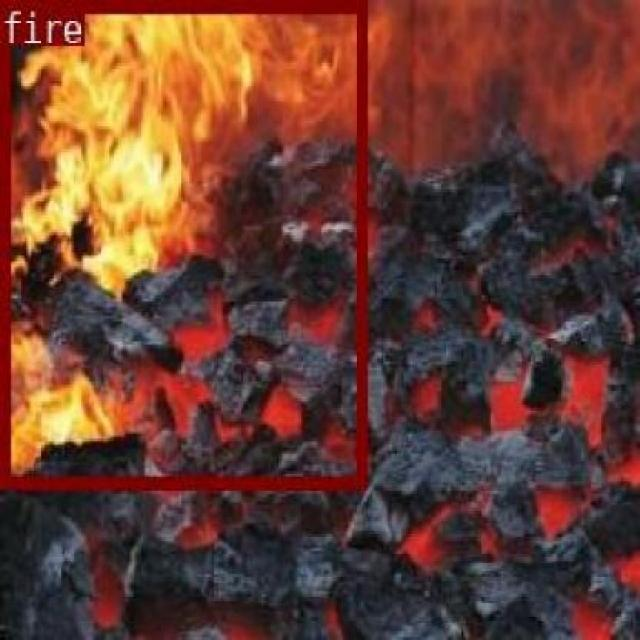Fire: (0, 0, 293, 478)
Smoke: (298, 0, 640, 255)
